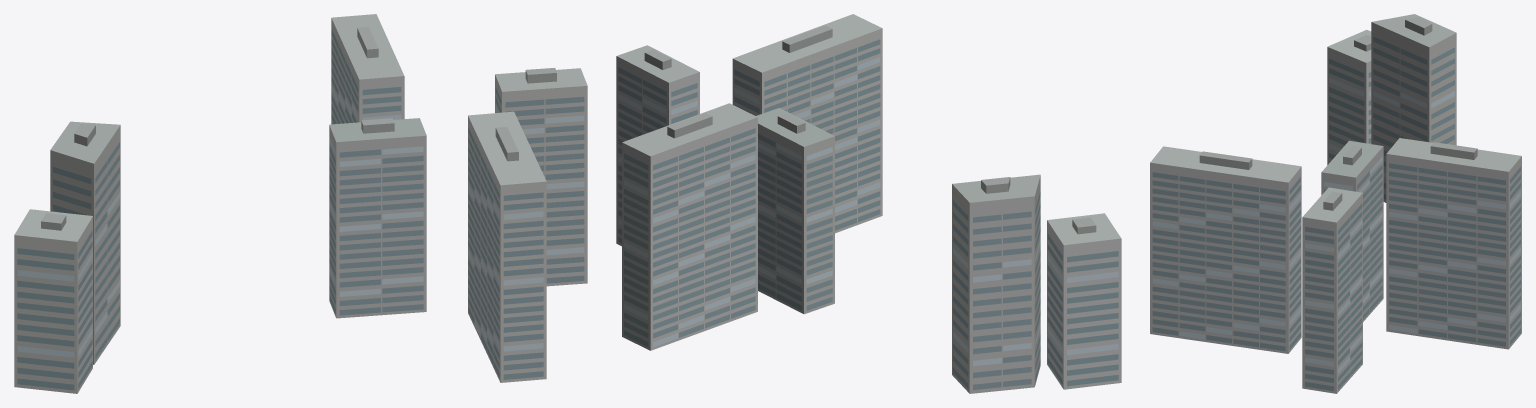
The model's file is apt-a12103002.glb.
The picture shows the model from 3 angles, left to right: view 1: azimuth 30°, elevation 25°; view 2: azimuth 150°, elevation 25°; view 3: azimuth 270°, elevation 25°; orthographic projection. The views are drawn at different scales.
Visible parts, largest first — view 1: apt-a12103002; view 2: apt-a12103002; view 3: apt-a12103002.
Boxes of the visible parts, bbox=[...] form: apt-a12103002: bbox=[14, 14, 587, 393]; apt-a12103002: bbox=[616, 14, 1121, 393]; apt-a12103002: bbox=[1150, 14, 1521, 393].
Size of the model in its own units: 159 by 59 by 107.
